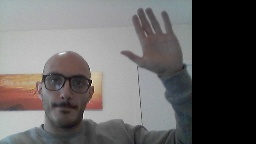Mano_aperta: (117, 5, 186, 78)
